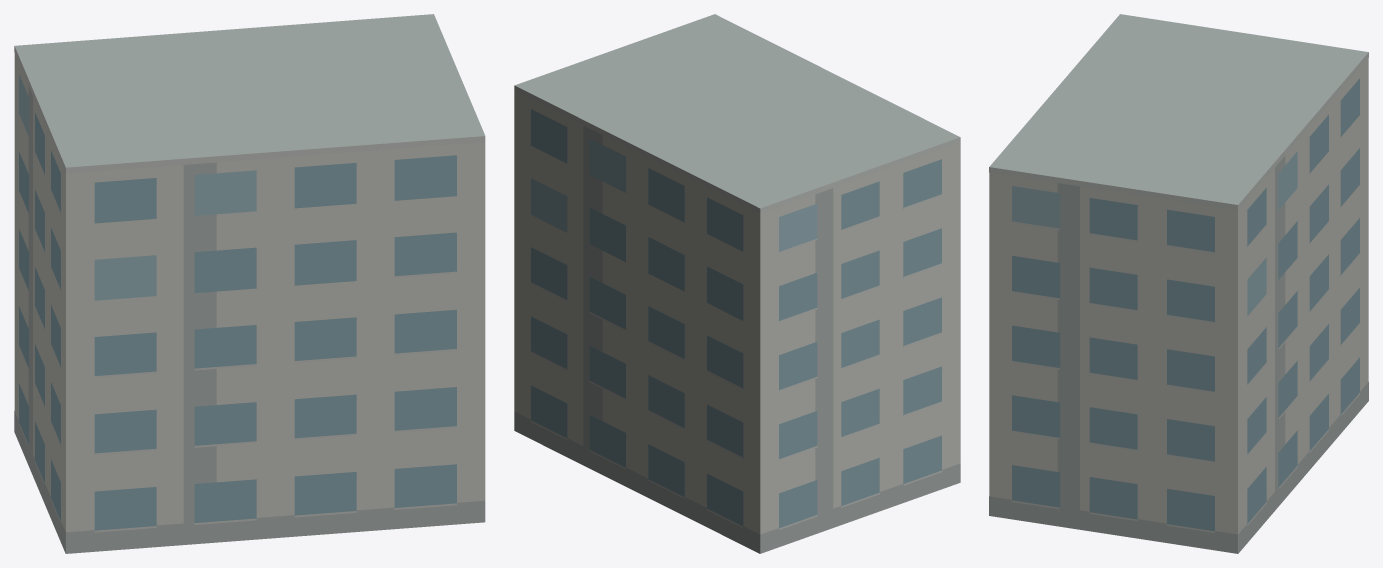
File: residential-97dfd3a7-5ce8-4f06-97f2-528309776c48.glb
3 renders of one model, left to right at view 1: azimuth 30°, elevation 25°; view 2: azimuth 150°, elevation 25°; view 3: azimuth 270°, elevation 25°, orthographic. The views are drawn at different scales.
Parts seen in each view (by area): view 1: residential-97dfd3a7-5ce8-4f06-97f2-528309776c48.tmp; view 2: residential-97dfd3a7-5ce8-4f06-97f2-528309776c48.tmp; view 3: residential-97dfd3a7-5ce8-4f06-97f2-528309776c48.tmp.
Boxes of the visible parts, <box> form: residential-97dfd3a7-5ce8-4f06-97f2-528309776c48.tmp: <box>14,14,485,553</box>; residential-97dfd3a7-5ce8-4f06-97f2-528309776c48.tmp: <box>514,14,960,553</box>; residential-97dfd3a7-5ce8-4f06-97f2-528309776c48.tmp: <box>989,14,1368,553</box>.
Size of the model in its own units: 17.92 by 15.25 by 15.05.
